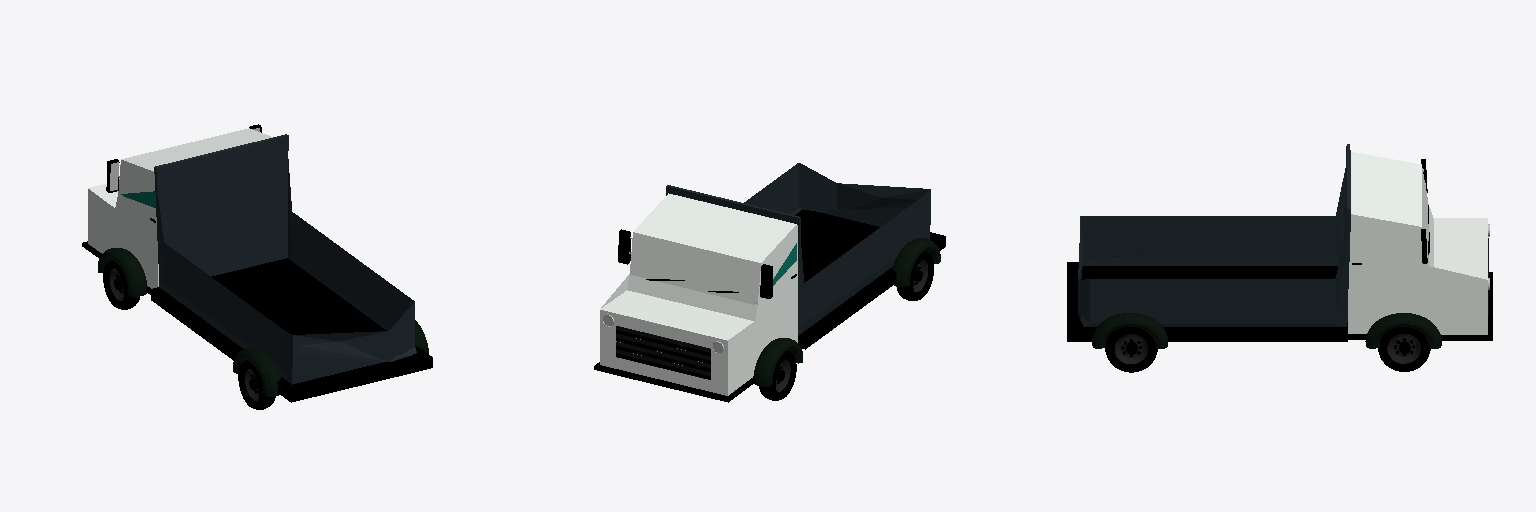
Rendered from Kamyonet.obj.
3 views of the same model, side by side, from view 1: azimuth 30°, elevation 25°; view 2: azimuth 150°, elevation 25°; view 3: azimuth 270°, elevation 25° (orthographic).
Parts seen in each view (by area): view 1: Kasa_Cube, Cube_Cube.006, Gövde_Cube.001, Çamurluk.001_Torus.006, Çamurluk.003_Torus.010, tekerlek.003_Torus.009, tekerlek.001_Torus.005; view 2: Gövde_Cube.001, Kasa_Cube, Cube_Cube.006, ızgara_Cube.003, Izgara_Boşlu_Cube.004, Çamurluk.001_Torus.006, Çamurluk.003_Torus.010, Cube.001_Cube.005, tekerlek.001_Torus.005, tekerlek.003_Torus.009; view 3: Kasa_Cube, Gövde_Cube.001, Cube_Cube.006, Çamurluk.005_Torus.003, Çamurluk.004_Torus.012, tekerlek.004_Torus.011, tekerlek_Torus.001, Cube.001_Cube.005, Cylinder_Cylinder.002, Cylinder.004_Cylinder.064.
Boxes of the visible parts, box(x1,y1,x2,y2) form: Kasa_Cube: box(154, 134, 416, 384); Cube_Cube.006: box(151, 258, 432, 402); Gövde_Cube.001: box(88, 128, 272, 288); Çamurluk.001_Torus.006: box(98, 248, 146, 296); Çamurluk.003_Torus.010: box(233, 348, 280, 396); tekerlek.003_Torus.009: box(238, 360, 275, 409); tekerlek.001_Torus.005: box(103, 260, 139, 309); Gövde_Cube.001: box(600, 193, 797, 395); Kasa_Cube: box(666, 163, 930, 335); Cube_Cube.006: box(795, 209, 945, 349); ızgara_Cube.003: box(616, 326, 710, 378); Izgara_Boşlu_Cube.004: box(616, 330, 710, 379); Çamurluk.001_Torus.006: box(753, 338, 802, 386); Çamurluk.003_Torus.010: box(892, 238, 940, 286); Cube.001_Cube.005: box(594, 343, 800, 402); tekerlek.001_Torus.005: box(759, 351, 796, 400); tekerlek.003_Torus.009: box(897, 251, 933, 300); Kasa_Cube: box(1078, 144, 1350, 326); Gövde_Cube.001: box(1348, 152, 1487, 334); Cube_Cube.006: box(1067, 262, 1347, 341); Çamurluk.005_Torus.003: box(1365, 313, 1441, 348); Çamurluk.004_Torus.012: box(1092, 313, 1167, 348); tekerlek.004_Torus.011: box(1105, 327, 1157, 372); tekerlek_Torus.001: box(1378, 327, 1430, 371); Cube.001_Cube.005: box(1348, 272, 1492, 340); Cylinder_Cylinder.002: box(1387, 334, 1420, 363); Cylinder.004_Cylinder.064: box(1115, 334, 1147, 363).
Size of the model in its own units: 2.56 by 2.38 by 5.77.